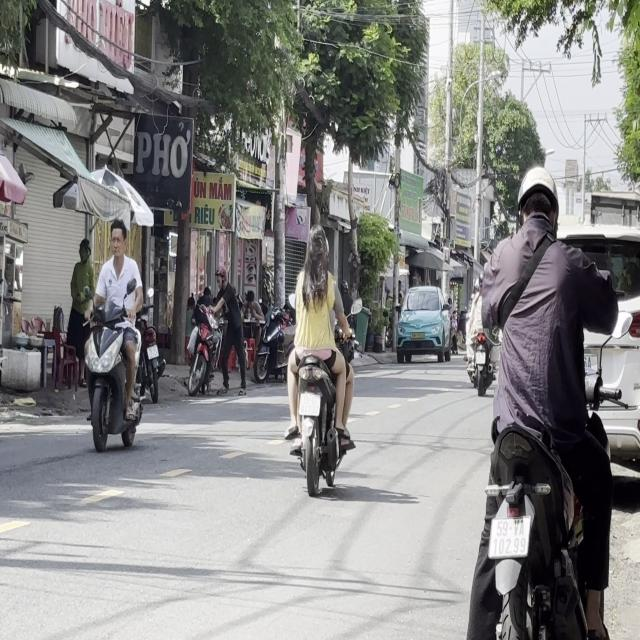helmet: (515, 165, 560, 233)
licenseplate: (464, 159, 624, 636), (282, 220, 356, 493), (82, 220, 144, 452)
motorcyclist: (305, 224, 329, 273), (108, 222, 126, 259)
nohelmet: (489, 516, 529, 556), (299, 392, 320, 415)
